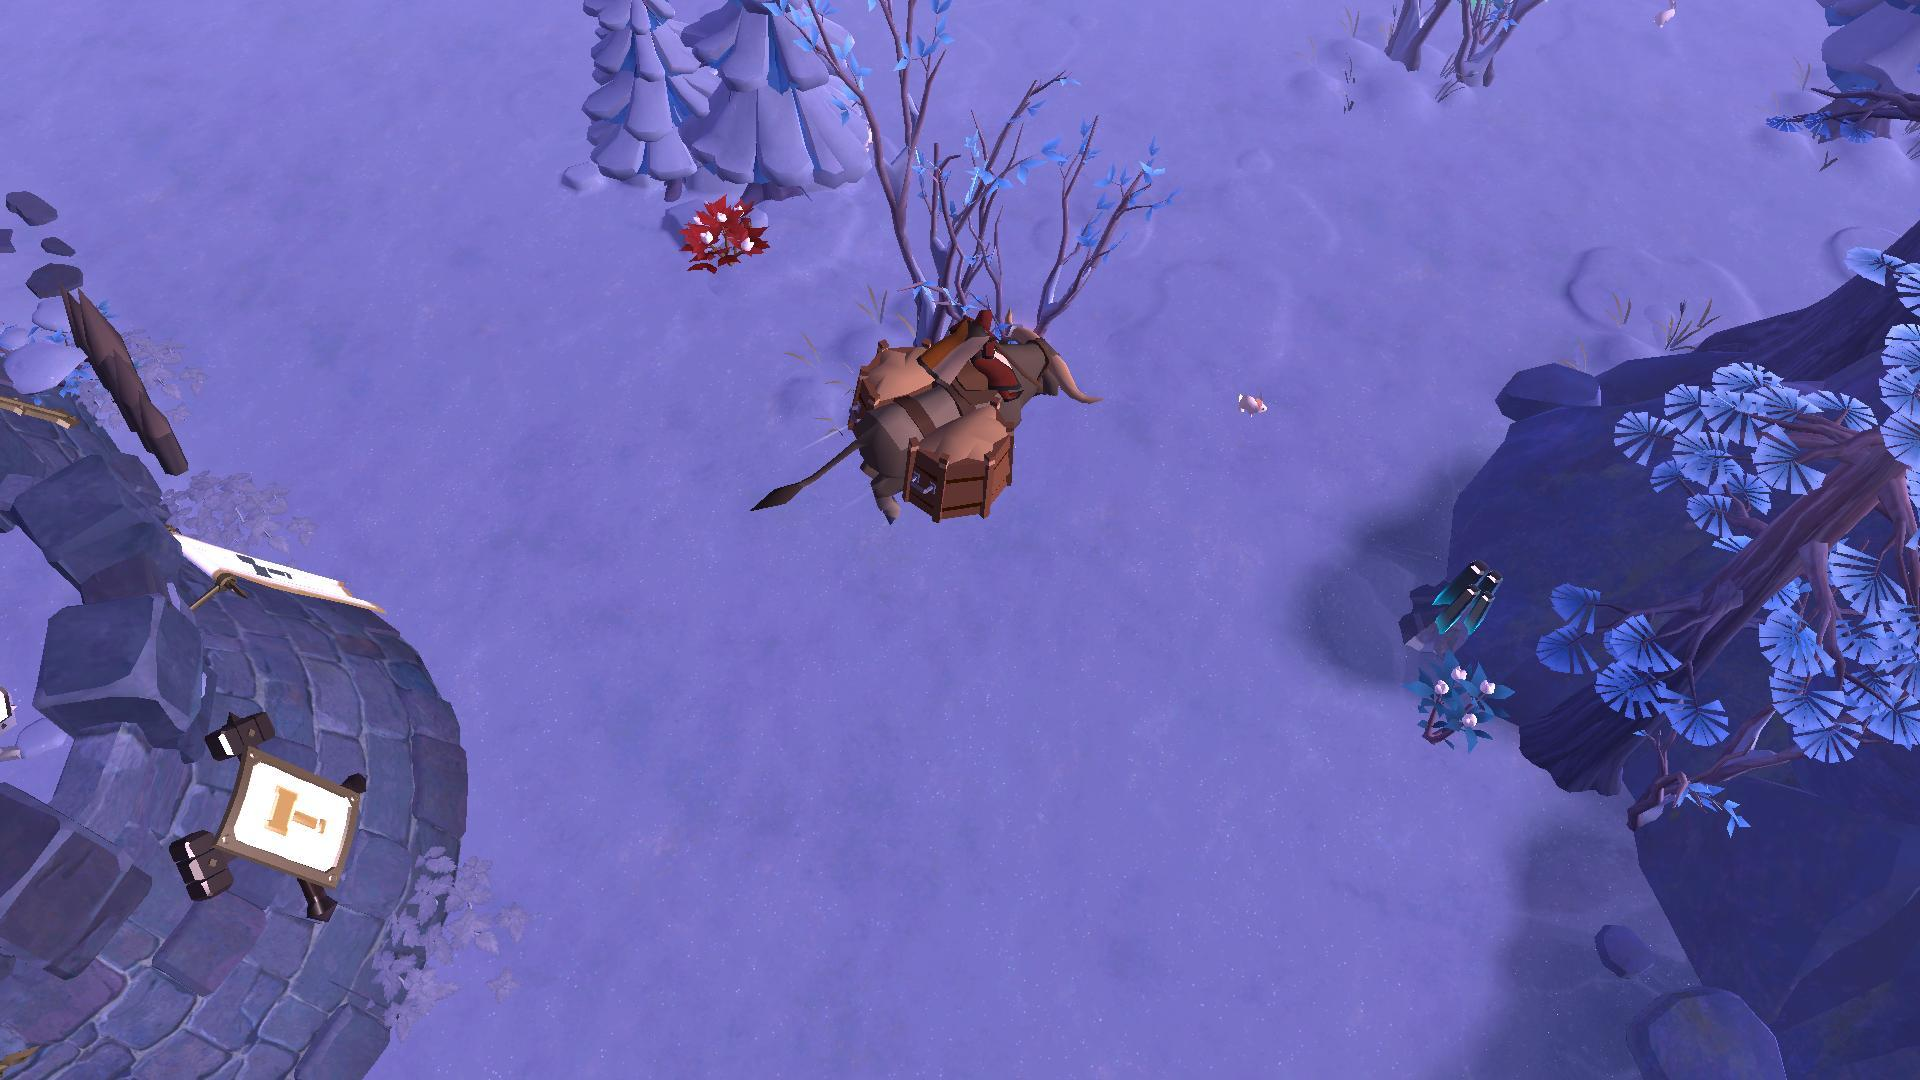fiber_t4: (1410, 653, 1506, 738)
fiber_t5: (671, 190, 770, 278)
ore_t4: (1428, 554, 1509, 636)
